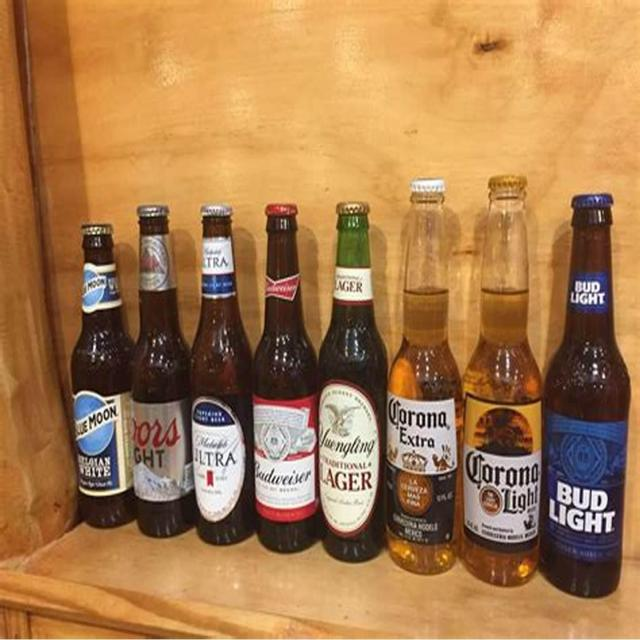glass bottle: (540, 191, 630, 600), (464, 176, 544, 589), (389, 176, 464, 576), (316, 202, 390, 563), (252, 203, 322, 554), (190, 202, 257, 548), (130, 203, 195, 541), (69, 221, 136, 531)
